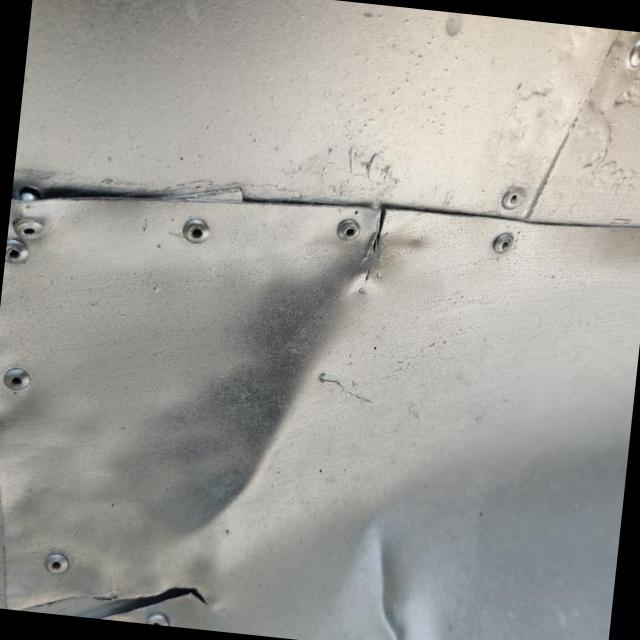Crack: (23, 588, 205, 619), (346, 208, 386, 295)
Dent: (122, 249, 424, 607), (310, 499, 459, 640)
